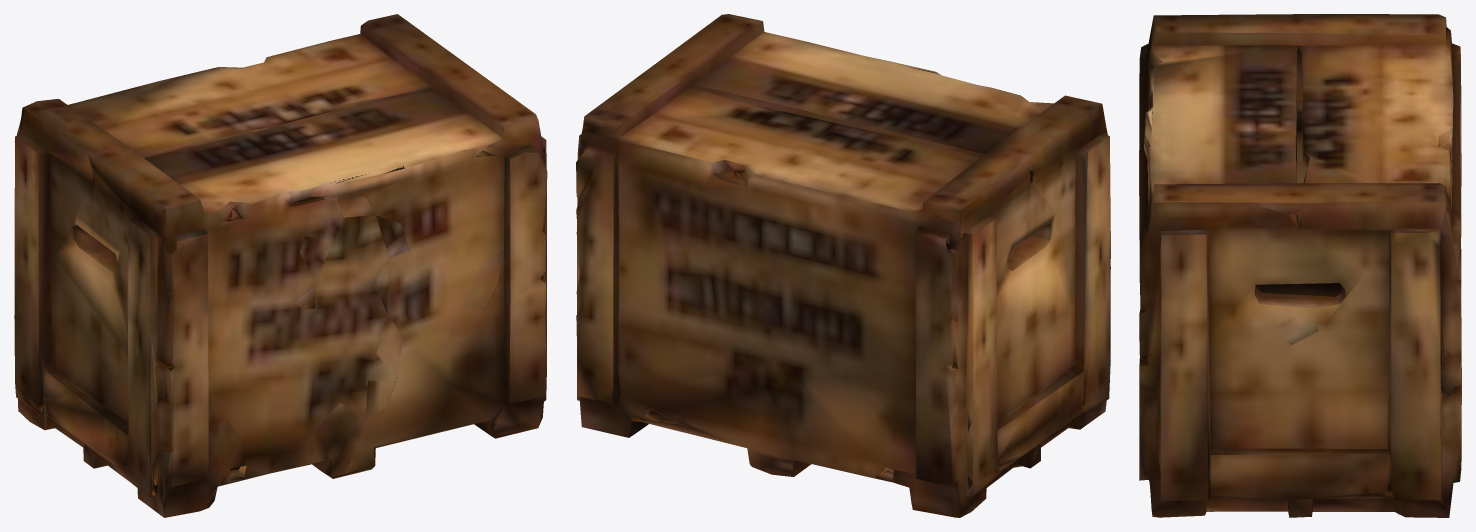
Rendered from cajon.movil.glb.
3 views of the same model, side by side, from view 1: azimuth 30°, elevation 25°; view 2: azimuth 150°, elevation 25°; view 3: azimuth 270°, elevation 25° (orthographic). The views are drawn at different scales.
Parts seen in each view (by area): view 1: geometry_0; view 2: geometry_0; view 3: geometry_0.
Boxes of the visible parts, bbox=[...] form: geometry_0: bbox=[14, 14, 547, 517]; geometry_0: bbox=[576, 14, 1110, 517]; geometry_0: bbox=[1139, 14, 1461, 517].
Size of the model in its own units: 0.7973 by 0.5966 by 0.5485.
Materials: 1 (1 with a texture image).
